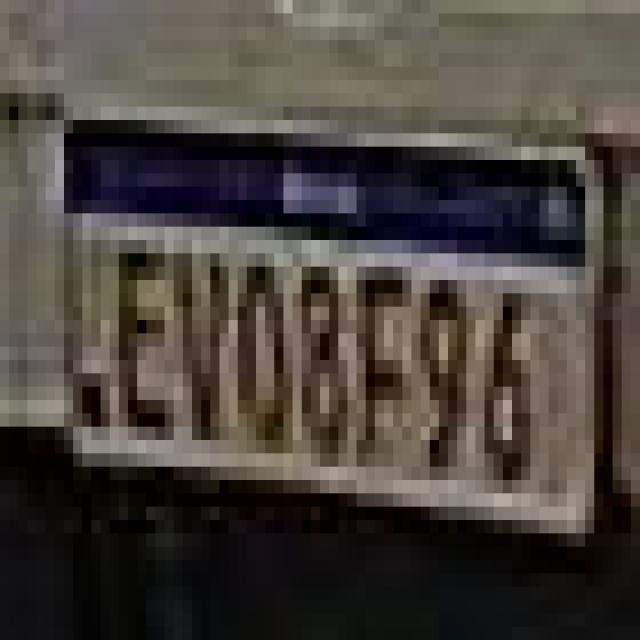6: (475, 284, 540, 483)
8: (296, 255, 355, 469)
9: (414, 272, 484, 471)
E: (113, 236, 177, 447)
F: (358, 262, 414, 468)
O: (235, 258, 299, 445)
V: (175, 246, 241, 445)
